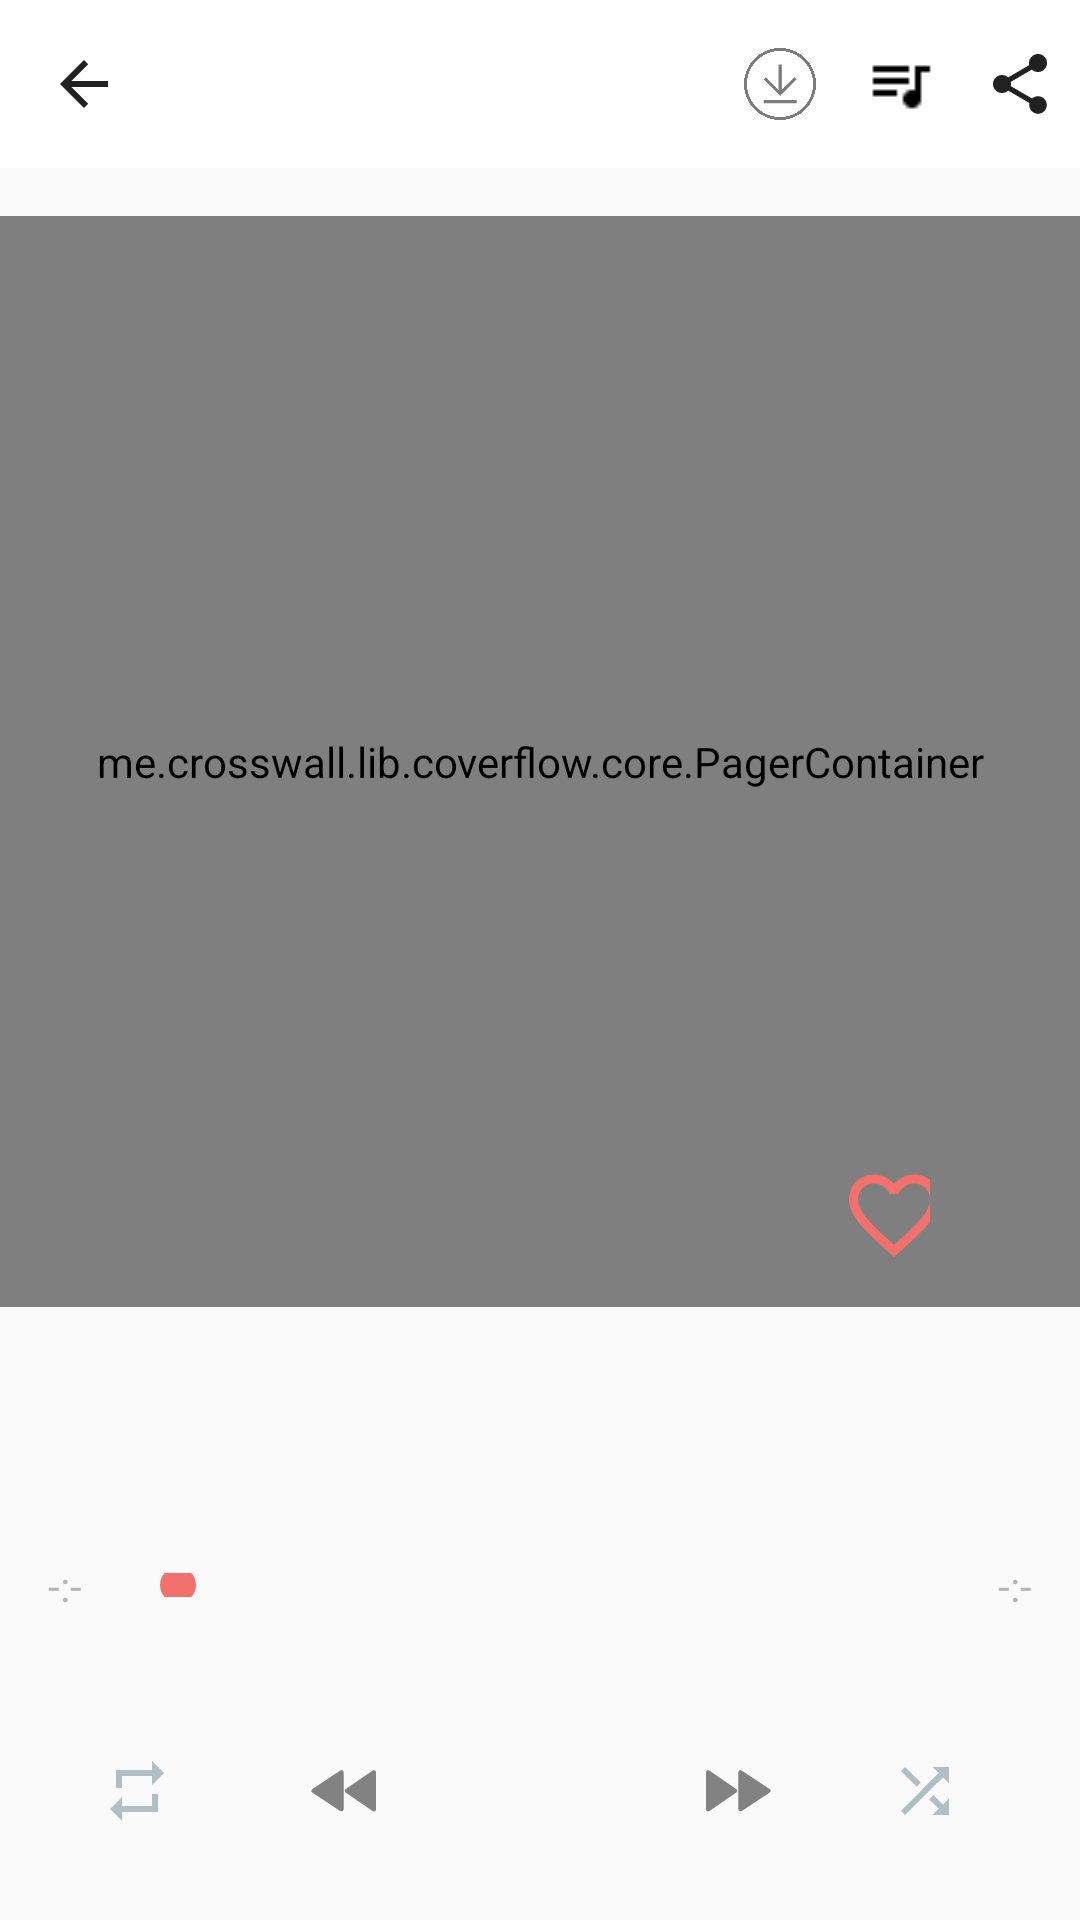

Where to tap for icons on this 1080 x 1920 app screen, as (x,y):
backward: (343,1791)
download: (780,84)
forward: (738,1791)
playl: (901,87)
share: (1020,84)
toggle repeat: (137,1791)
toggle shuffle: (925,1791)
